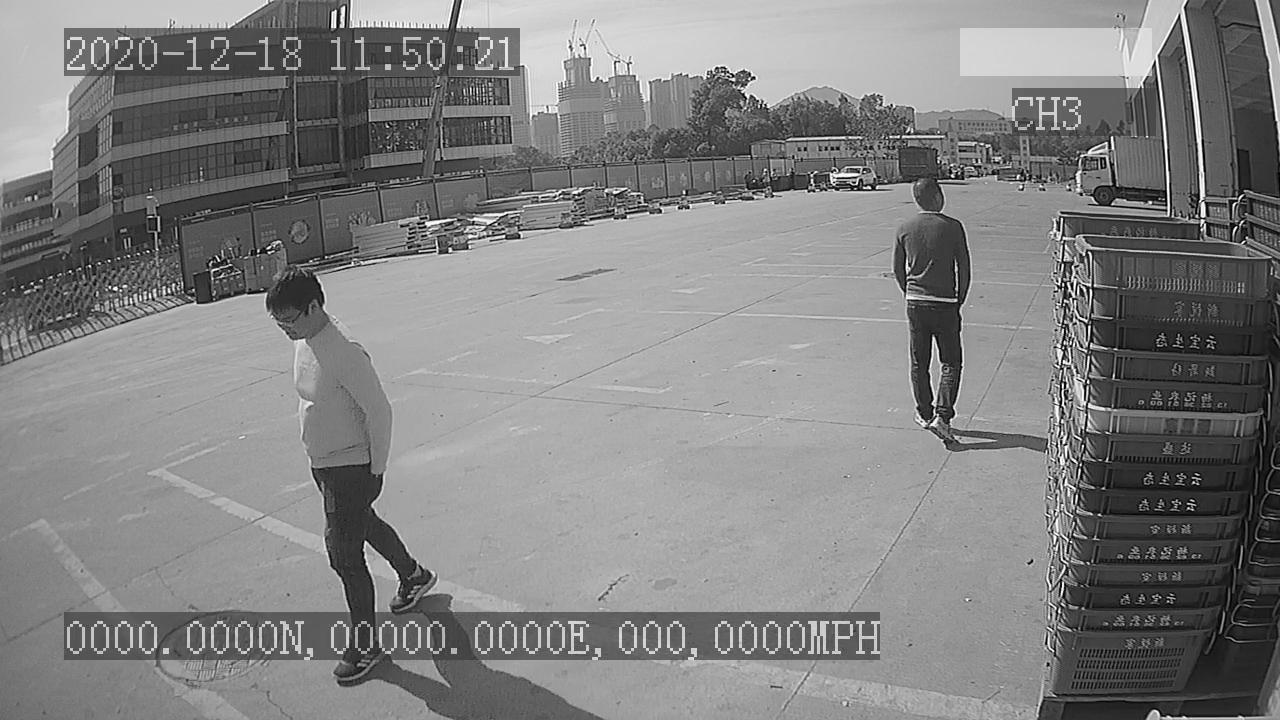person: (888, 172, 977, 451)
